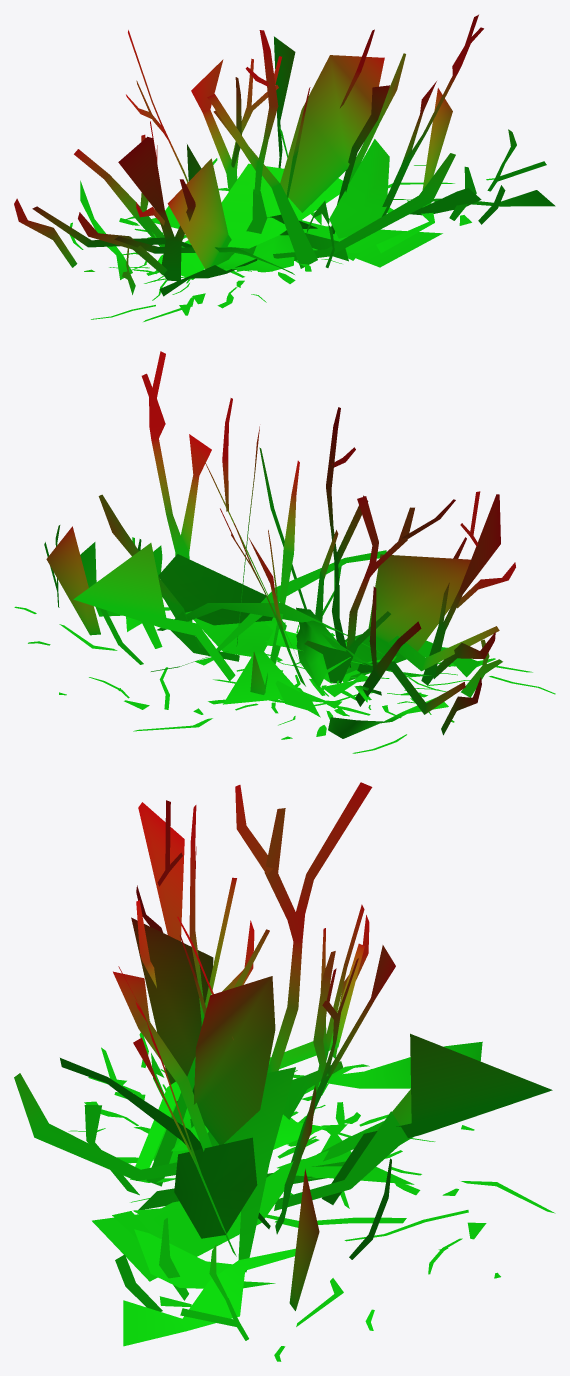
Rendered from Dead Shrubs_LOD3_Var7_vdknbbuha.fbx.
The picture shows the model from 3 angles, top to bottom: view 1: azimuth 30°, elevation 25°; view 2: azimuth 150°, elevation 25°; view 3: azimuth 270°, elevation 25°; orthographic projection. The views are drawn at different scales.
Visible parts, largest first — view 1: _0z8s_Var7_LOD3; view 2: _0z8s_Var7_LOD3; view 3: _0z8s_Var7_LOD3.
Part boxes in pixels (x1,y1,x2,y2): _0z8s_Var7_LOD3: (14,14,555,321); _0z8s_Var7_LOD3: (14,351,555,753); _0z8s_Var7_LOD3: (14,782,555,1361).
Bounding box in the file's own units: 101 × 50.27 × 66.81.
